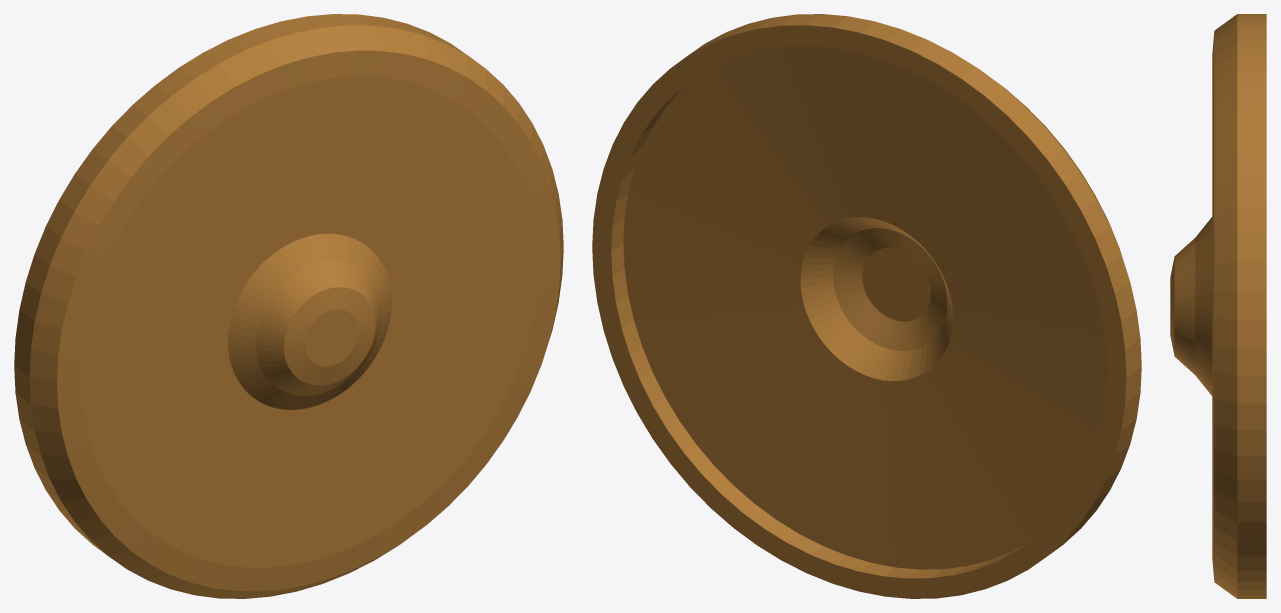
File: demo.glb
The picture shows the model from 3 angles, left to right: view 1: azimuth 30°, elevation 25°; view 2: azimuth 150°, elevation 25°; view 3: azimuth 270°, elevation 25°; orthographic projection. The views are drawn at different scales.
Parts seen in each view (by area): view 1: body; view 2: body; view 3: body.
Boxes of the visible parts, x1,y1,x2,y2 form: body: [14, 14, 563, 598]; body: [592, 14, 1141, 598]; body: [1170, 14, 1266, 598].
Bounding box in the file's own units: 2.8 × 2.8 × 0.46.
